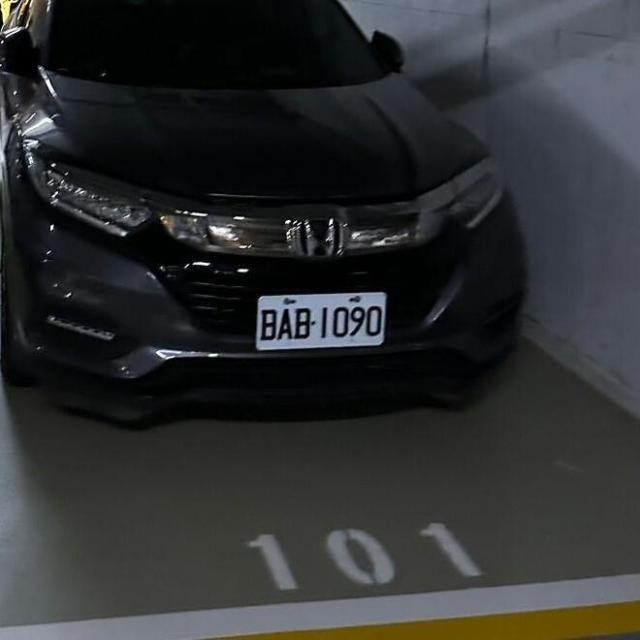W: (246, 280, 395, 361)
